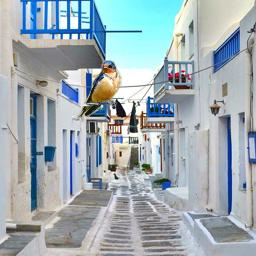Swallow: (77, 60, 122, 118)
